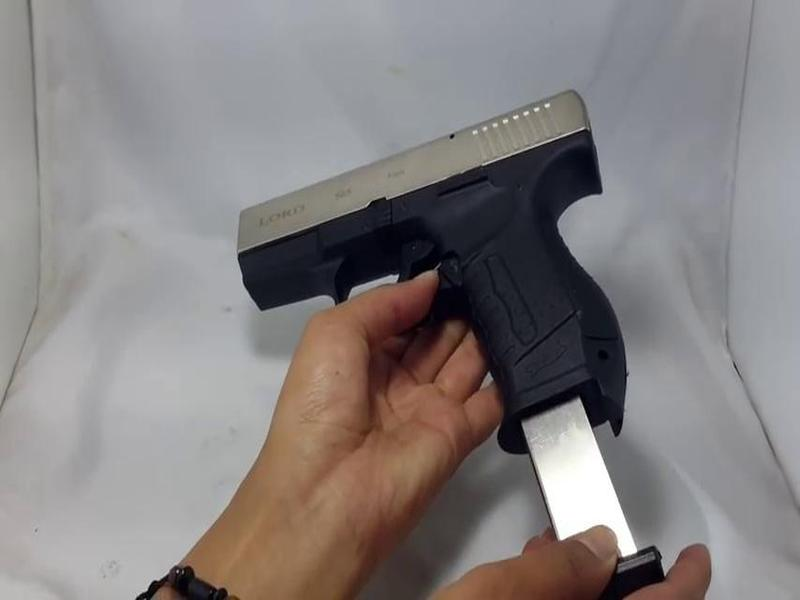Pistola: (216, 138, 655, 441)
